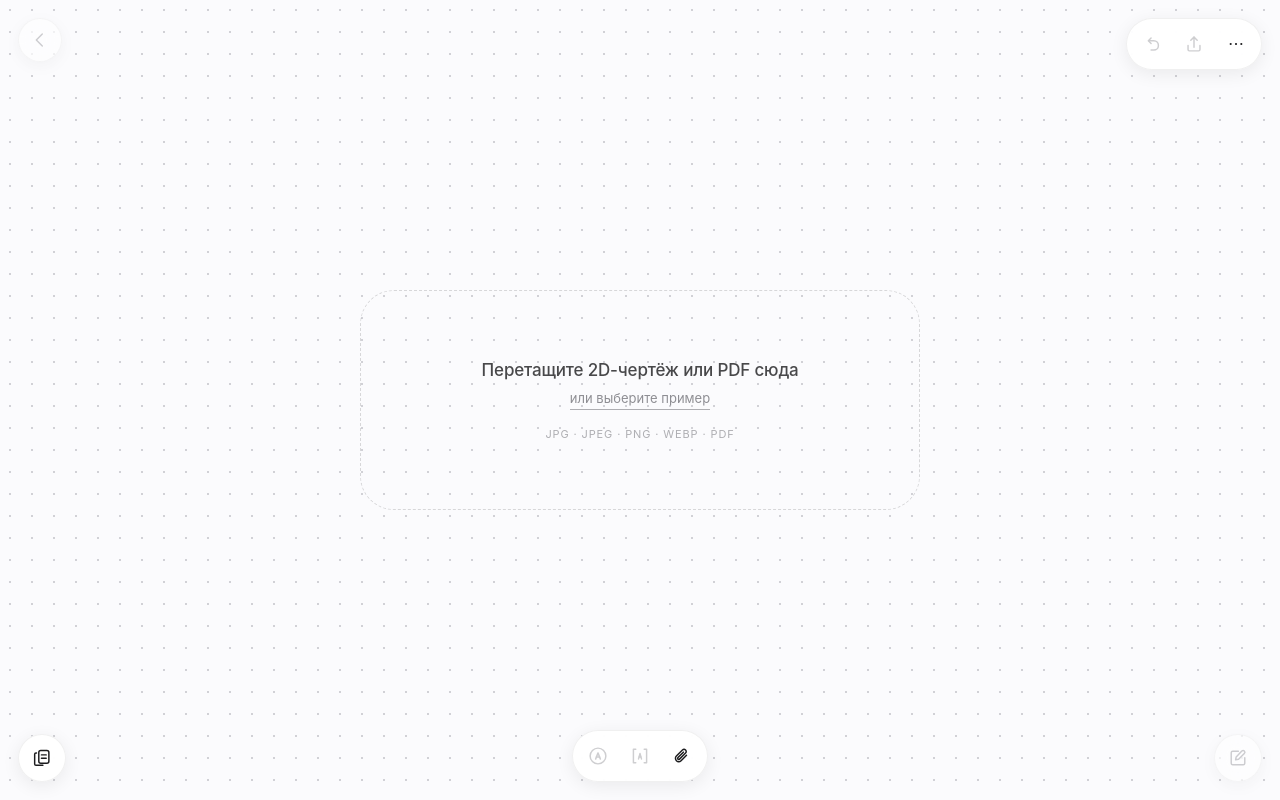
холст с парящими капсулами › клик по названию на листе A4 открывает правку именно этого поля
The width and height of the screenshot is (1280, 800).
Step 1. Click the button named "Примеры чертежей" → click(42, 758), box [18,734,66,782]
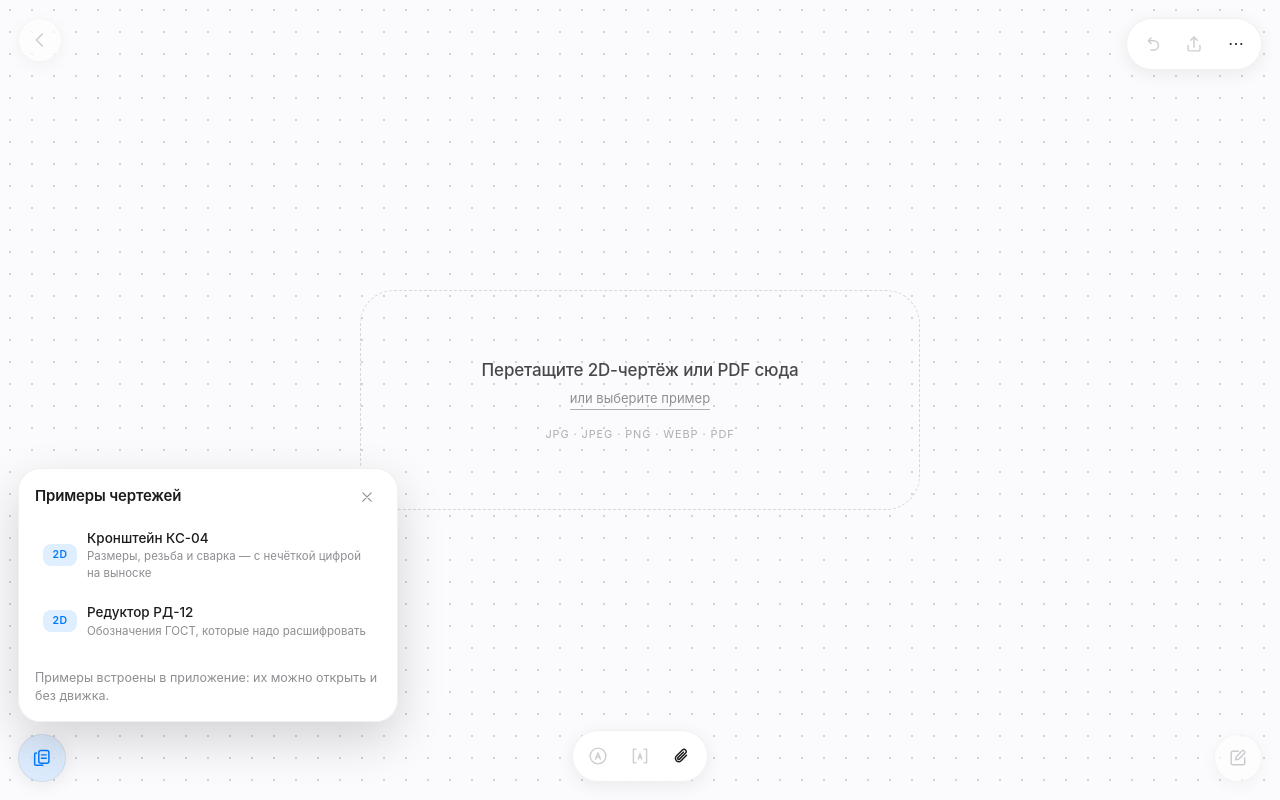
Step 2. Click the button that starts with "Кронштейн КС-04" → click(207, 555), box [35,518,379,591]
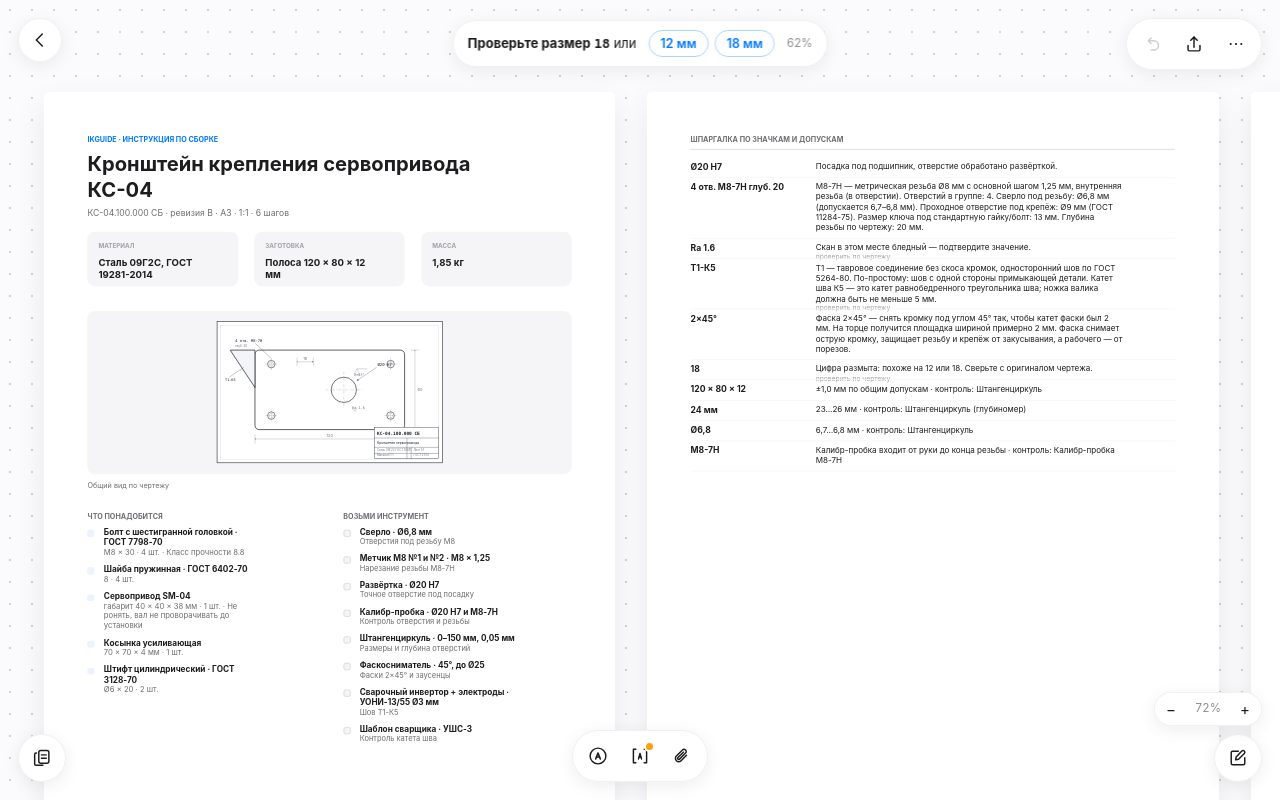
Check: the button "Кронштейн крепления сервопривода КС-04" is shown
Step 3. Click the button "Кронштейн крепления сервопривода КС-04" → click(330, 177), box [88,152,572,203]
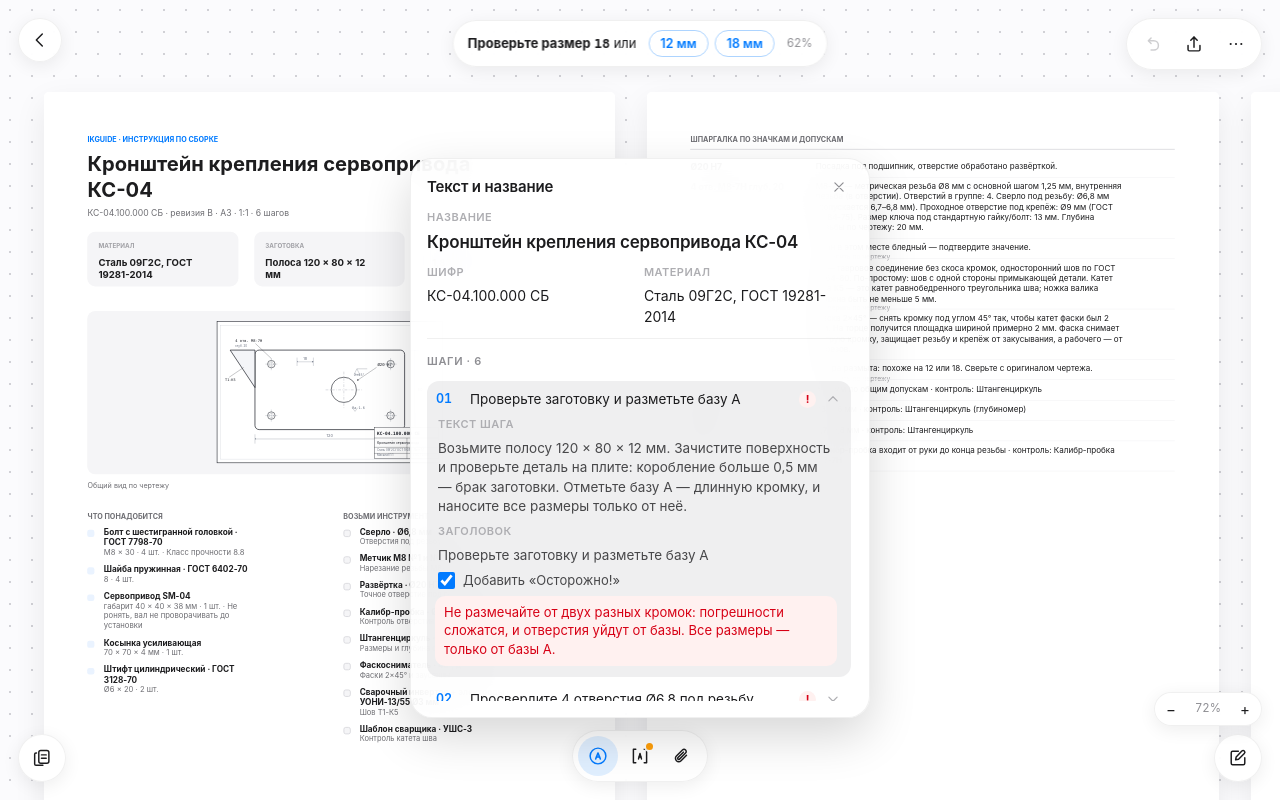
Check: the dialog shows "Текст и название", box [427,177,553,196]
Check: the button with class "field-title" shows "Кронштейн", box [427,228,848,256]
